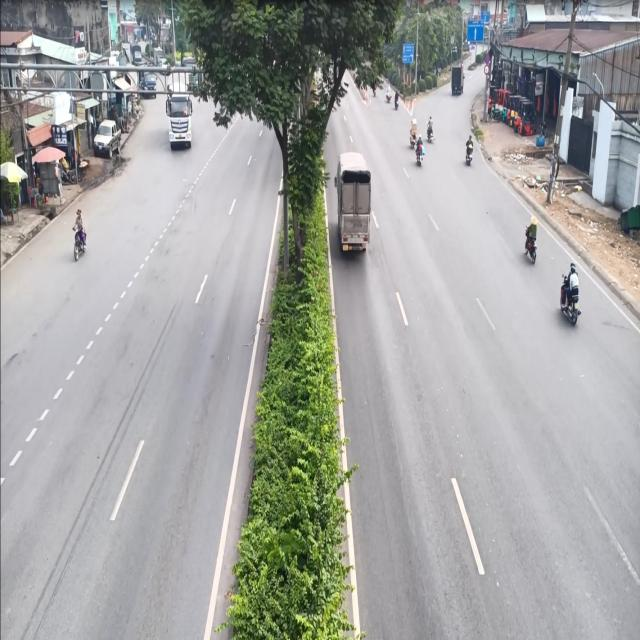motor: (556, 256, 582, 333), (69, 202, 89, 266), (524, 204, 541, 260), (463, 133, 475, 166)
truck: (332, 150, 374, 264)
